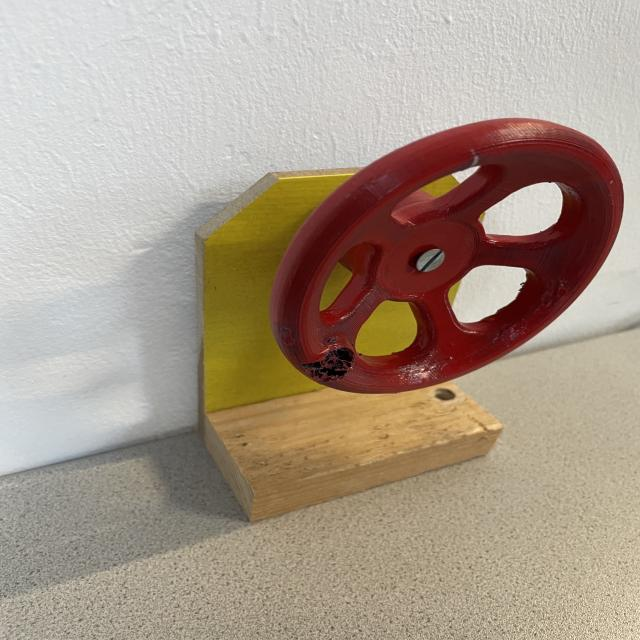Wheel Handle Valve Threaded: (268, 116, 626, 395)
